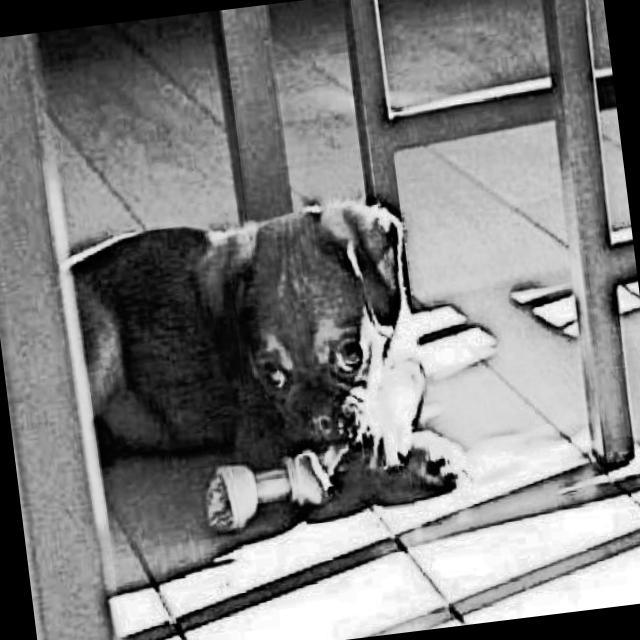Dog: (60, 175, 442, 508)
